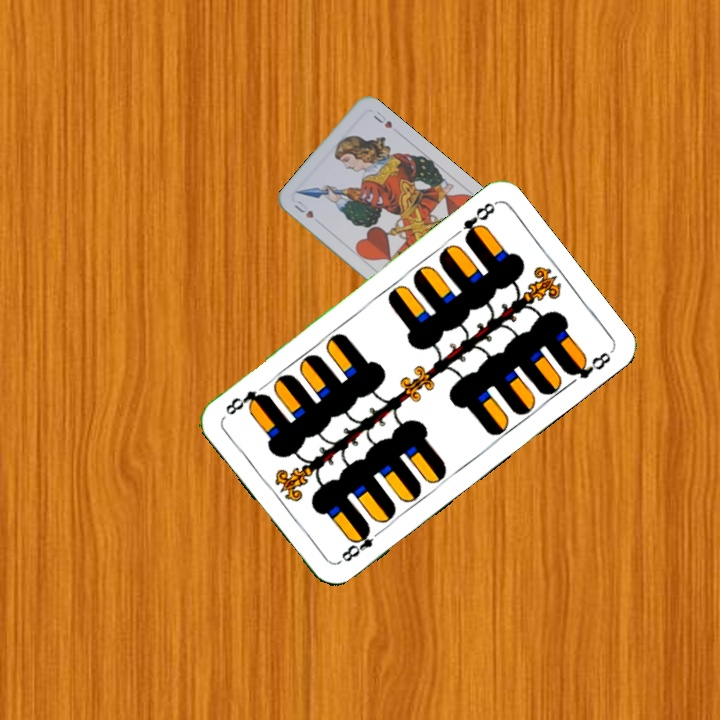E8: (334, 522, 385, 566), (459, 198, 498, 244)
HU: (290, 196, 316, 221)
